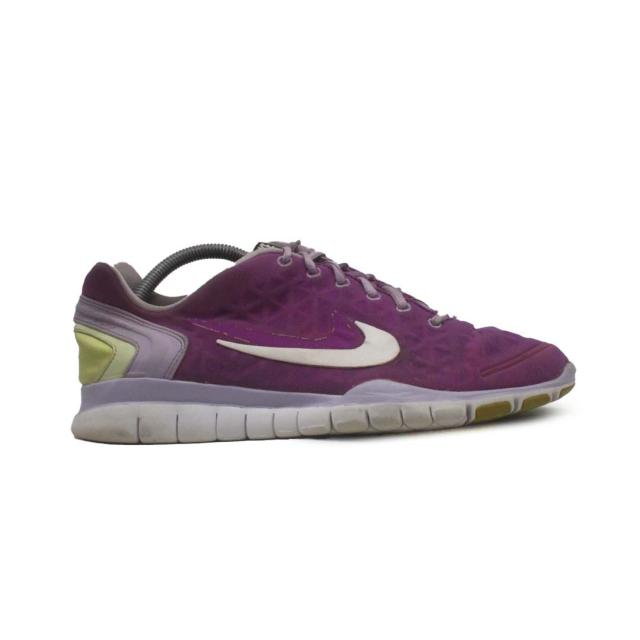heel: (69, 265, 138, 379)
midsole: (72, 360, 576, 445)
uppersole: (137, 234, 569, 392)
